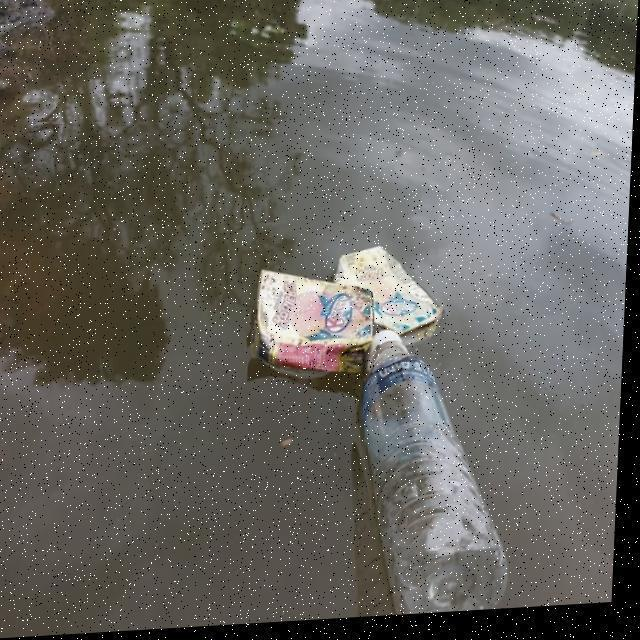Bottle: (360, 327, 516, 616)
Box: (250, 265, 381, 379), (334, 242, 451, 347)
